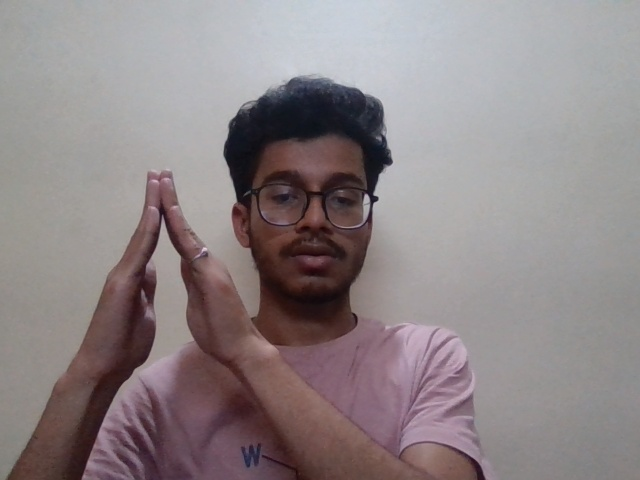home: (83, 164, 285, 400)
